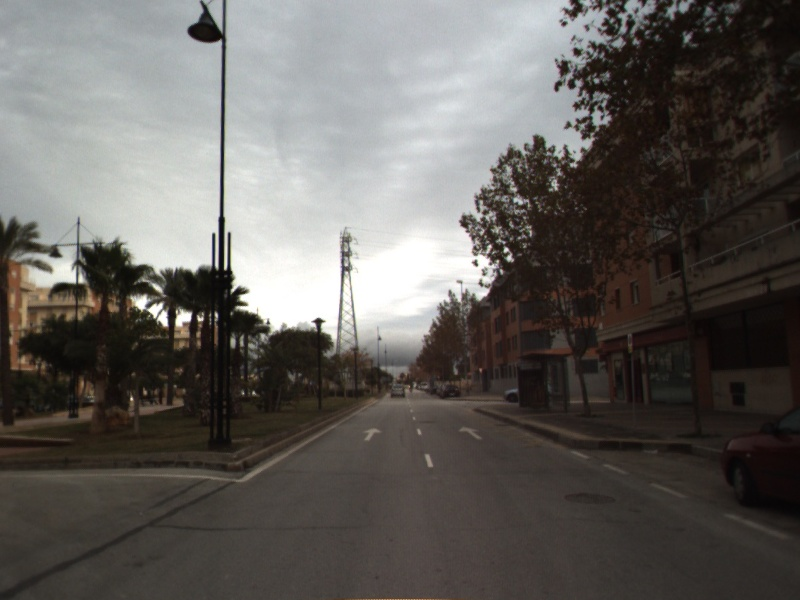STRAIGHT: (457, 424, 484, 441), (361, 426, 384, 442)
